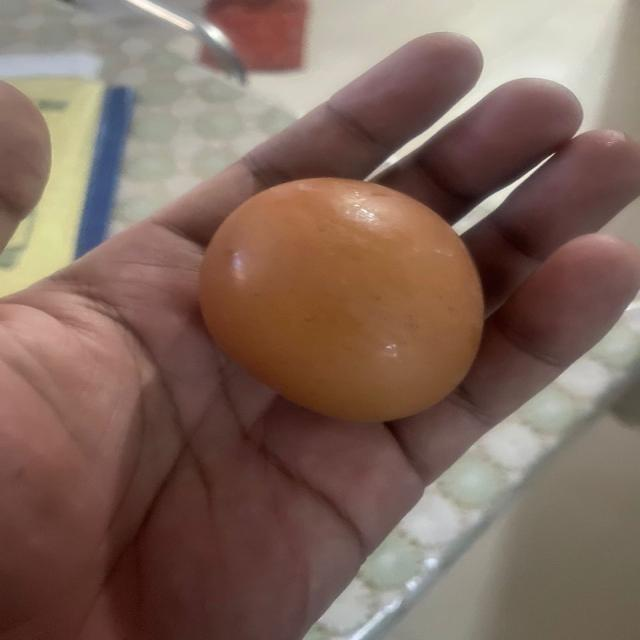Egg: (193, 176, 487, 430)
